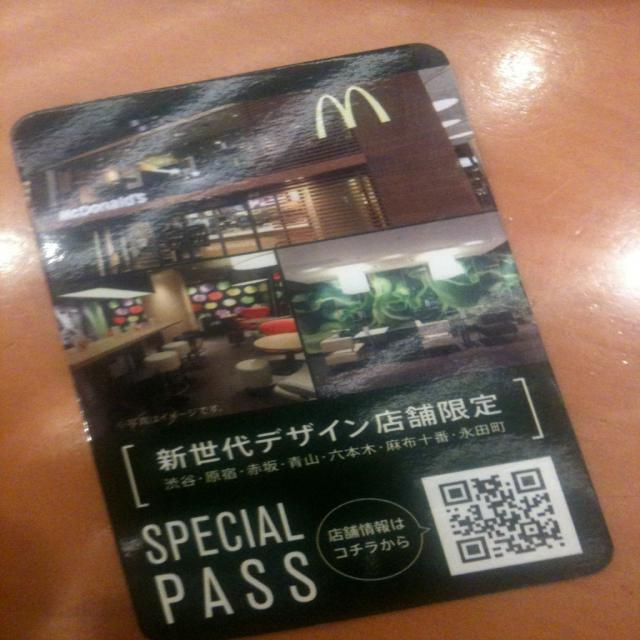qr_code: (438, 466, 566, 564)
